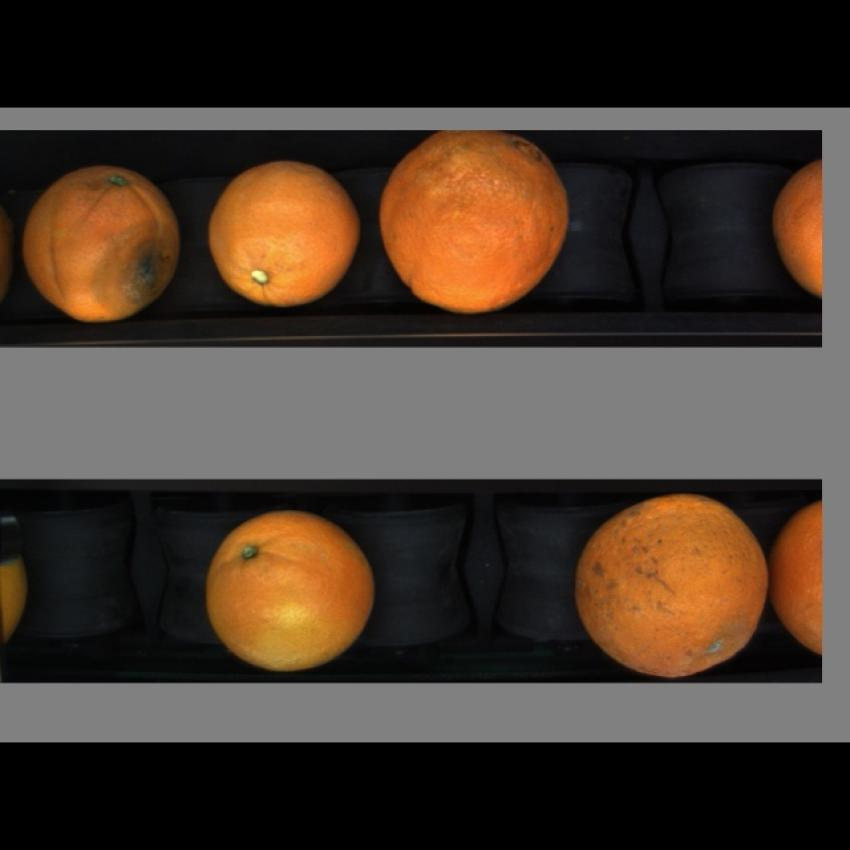Buen estado: (203, 505, 384, 671), (206, 155, 364, 309), (772, 490, 822, 657)
Mal estado: (377, 138, 576, 310), (575, 490, 768, 667), (19, 164, 193, 326), (773, 152, 822, 295)
